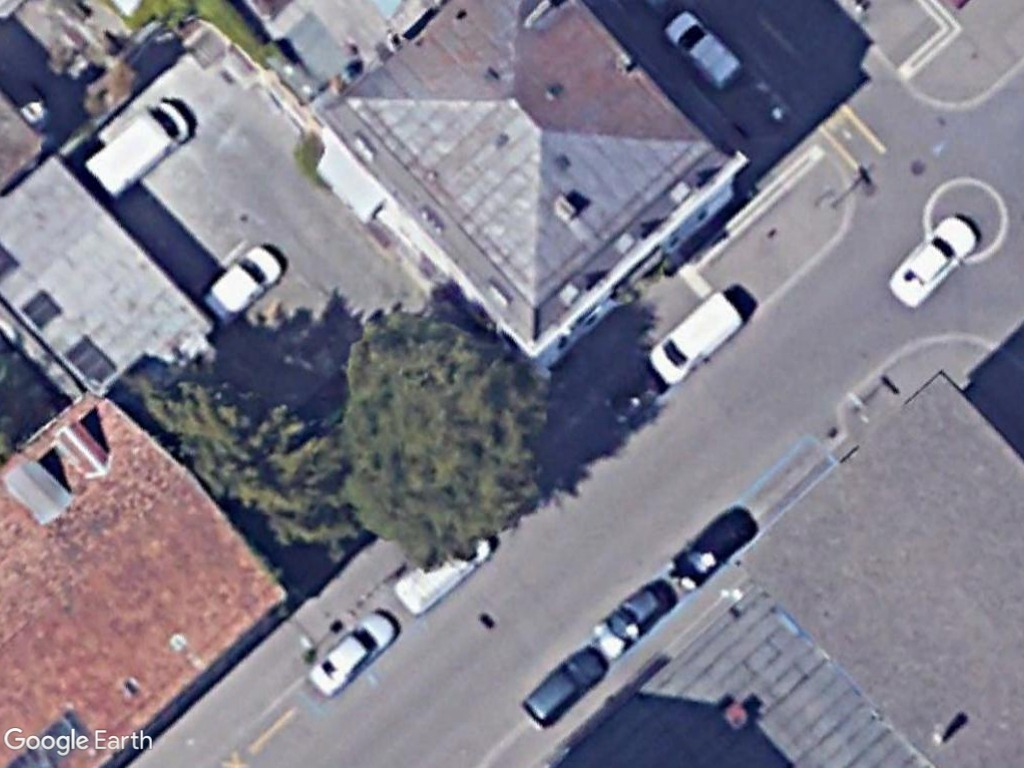car: (881, 215, 978, 312), (519, 640, 612, 735), (305, 607, 396, 699), (198, 242, 286, 329)
van: (78, 98, 195, 202), (644, 287, 745, 388), (659, 7, 745, 93)
